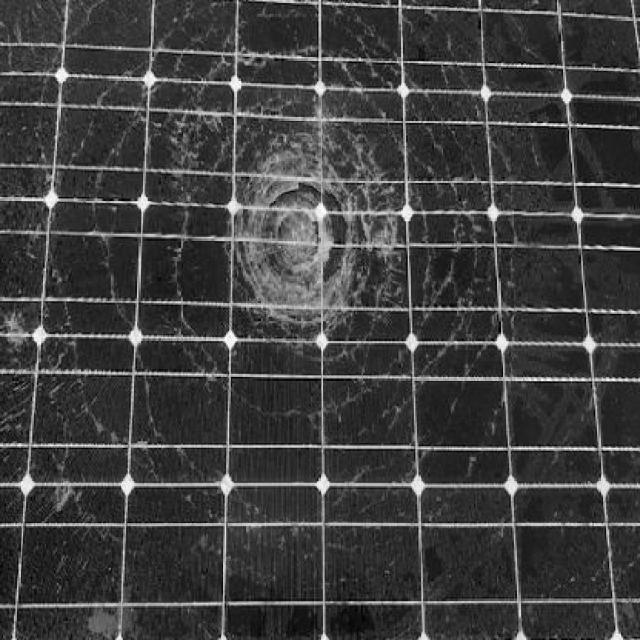Anomaly Solar Panel: (1, 0, 3, 320)
Structural Damage: (144, 49, 423, 445), (0, 264, 53, 431)
